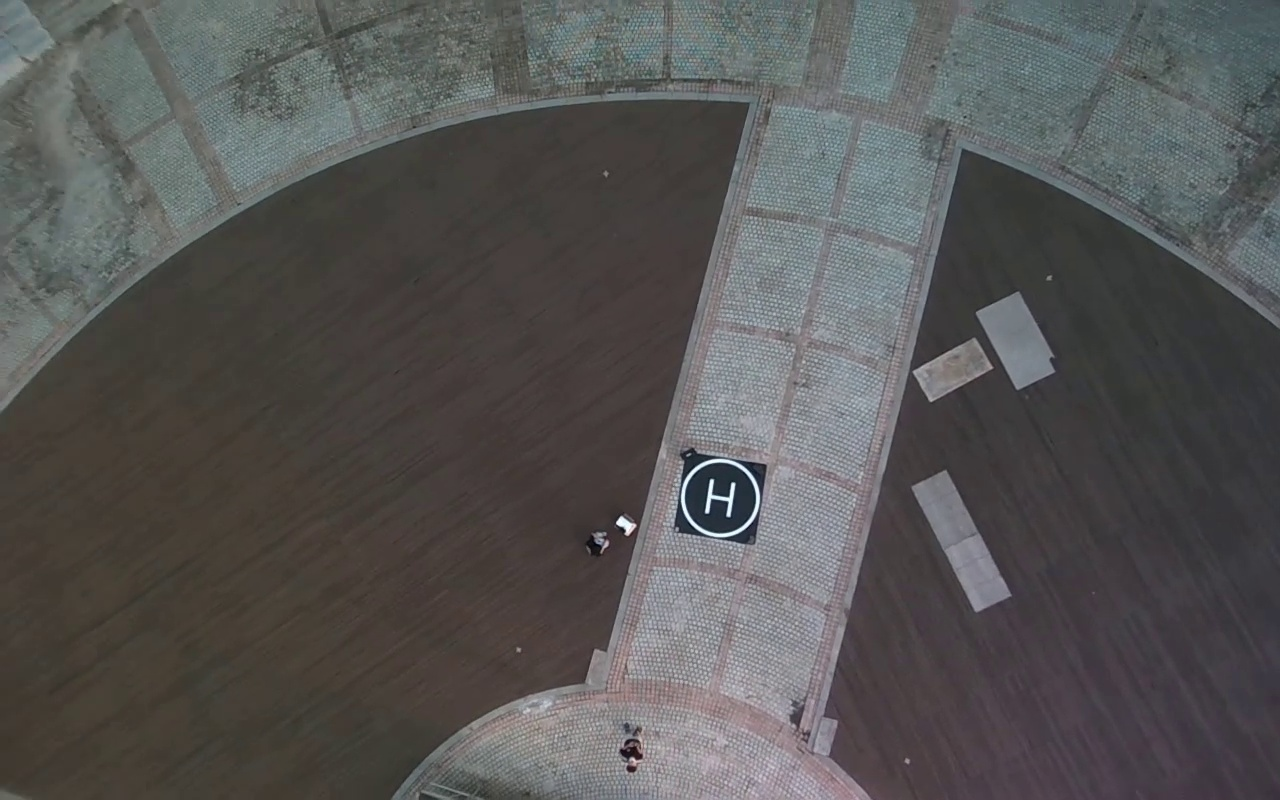H: (703, 478, 737, 518)
heliport: (681, 458, 761, 537)
